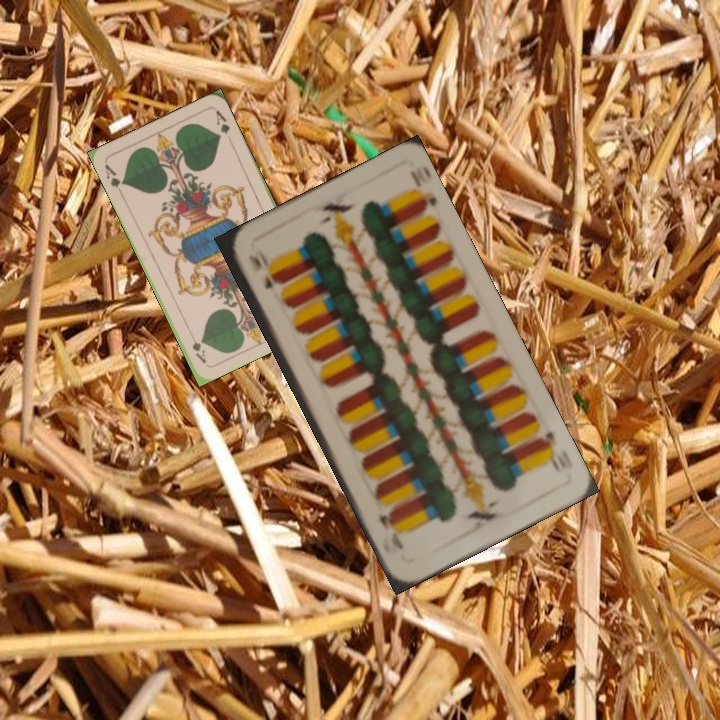E10: (533, 427, 563, 473), (244, 250, 276, 292)
GA: (101, 160, 127, 197)
